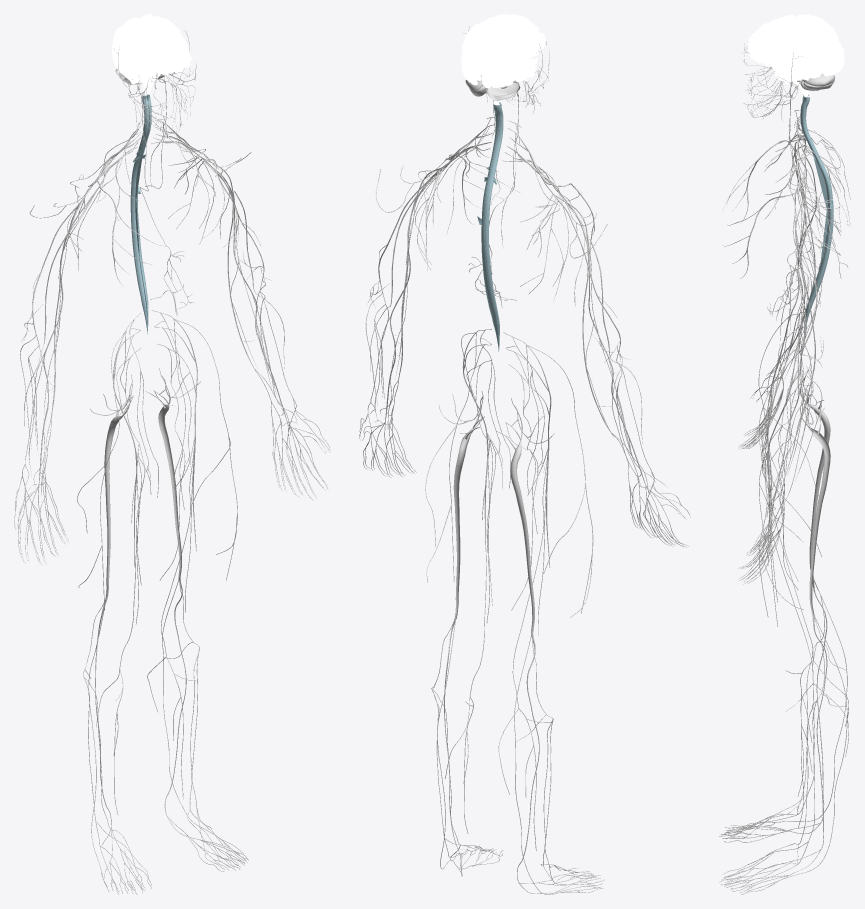
File: nervous.glb
3 renders of one model, left to right at view 1: azimuth 30°, elevation 25°; view 2: azimuth 150°, elevation 25°; view 3: azimuth 270°, elevation 25°, orthographic. The views are drawn at different scales.
Visible parts, largest first — view 1: Brachial plexus, Sciatic nerve, Lumbar plexus, White matter of telencephalon.r.001, Femoral nerve, Spinal dura.001, Radial nerve, Median nerve, White matter of telencephalon.l.001, Ulnar nerve, Vagus nerve; view 2: Brachial plexus, Sciatic nerve, Lumbar plexus, White matter of telencephalon.r.001, Femoral nerve, Spinal dura.001, White matter of telencephalon.l.001, Radial nerve, Median nerve, Ulnar nerve; view 3: Brachial plexus, Sciatic nerve, White matter of telencephalon.l.001, Lumbar plexus, Spinal dura.001, Femoral nerve, Radial nerve, Median nerve, Ulnar nerve, White matter of telencephalon.r.001, Vagus nerve, Trigeminal nerve (+2 smaller).
Boxes of the visible parts, x1=… form: Brachial plexus: x1=14, y1=113, x2=330, y2=562; Sciatic nerve: x1=83, y1=368, x2=248, y2=894; Lumbar plexus: x1=77, y1=310, x2=242, y2=882; White matter of telencephalon.r.001: x1=111, y1=17, x2=171, y2=84; Femoral nerve: x1=85, y1=310, x2=241, y2=886; Spinal dura.001: x1=130, y1=92, x2=151, y2=334; Radial nerve: x1=14, y1=160, x2=327, y2=563; Median nerve: x1=16, y1=158, x2=324, y2=565; White matter of telencephalon.l.001: x1=139, y1=14, x2=191, y2=74; Ulnar nerve: x1=29, y1=157, x2=299, y2=555; Vagus nerve: x1=138, y1=79, x2=193, y2=315; Brachial plexus: x1=359, y1=117, x2=688, y2=545; Sciatic nerve: x1=431, y1=391, x2=604, y2=894; Lumbar plexus: x1=425, y1=329, x2=593, y2=894; White matter of telencephalon.r.001: x1=481, y1=15, x2=545, y2=88; Femoral nerve: x1=433, y1=329, x2=599, y2=894; Spinal dura.001: x1=477, y1=101, x2=503, y2=351; White matter of telencephalon.l.001: x1=461, y1=14, x2=518, y2=85; Radial nerve: x1=359, y1=171, x2=690, y2=547; Median nerve: x1=364, y1=168, x2=688, y2=546; Ulnar nerve: x1=380, y1=160, x2=656, y2=537; Brachial plexus: x1=723, y1=110, x2=850, y2=584; Sciatic nerve: x1=719, y1=365, x2=847, y2=894; White matter of telencephalon.l.001: x1=748, y1=20, x2=844, y2=83; Lumbar plexus: x1=747, y1=312, x2=848, y2=891; Spinal dura.001: x1=800, y1=94, x2=833, y2=334; Femoral nerve: x1=748, y1=312, x2=848, y2=888; Radial nerve: x1=742, y1=148, x2=823, y2=582; Median nerve: x1=739, y1=145, x2=805, y2=578; Ulnar nerve: x1=739, y1=143, x2=815, y2=566; White matter of telencephalon.r.001: x1=748, y1=14, x2=844, y2=55; Vagus nerve: x1=767, y1=81, x2=816, y2=320; Trigeminal nerve: x1=742, y1=44, x2=803, y2=117.
Bounding box in the file's own units: 0.6675 × 1.69 × 0.2385.
